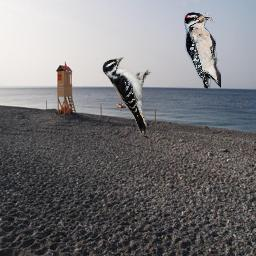Woodpecker: (102, 57, 152, 136), (184, 12, 221, 89)
